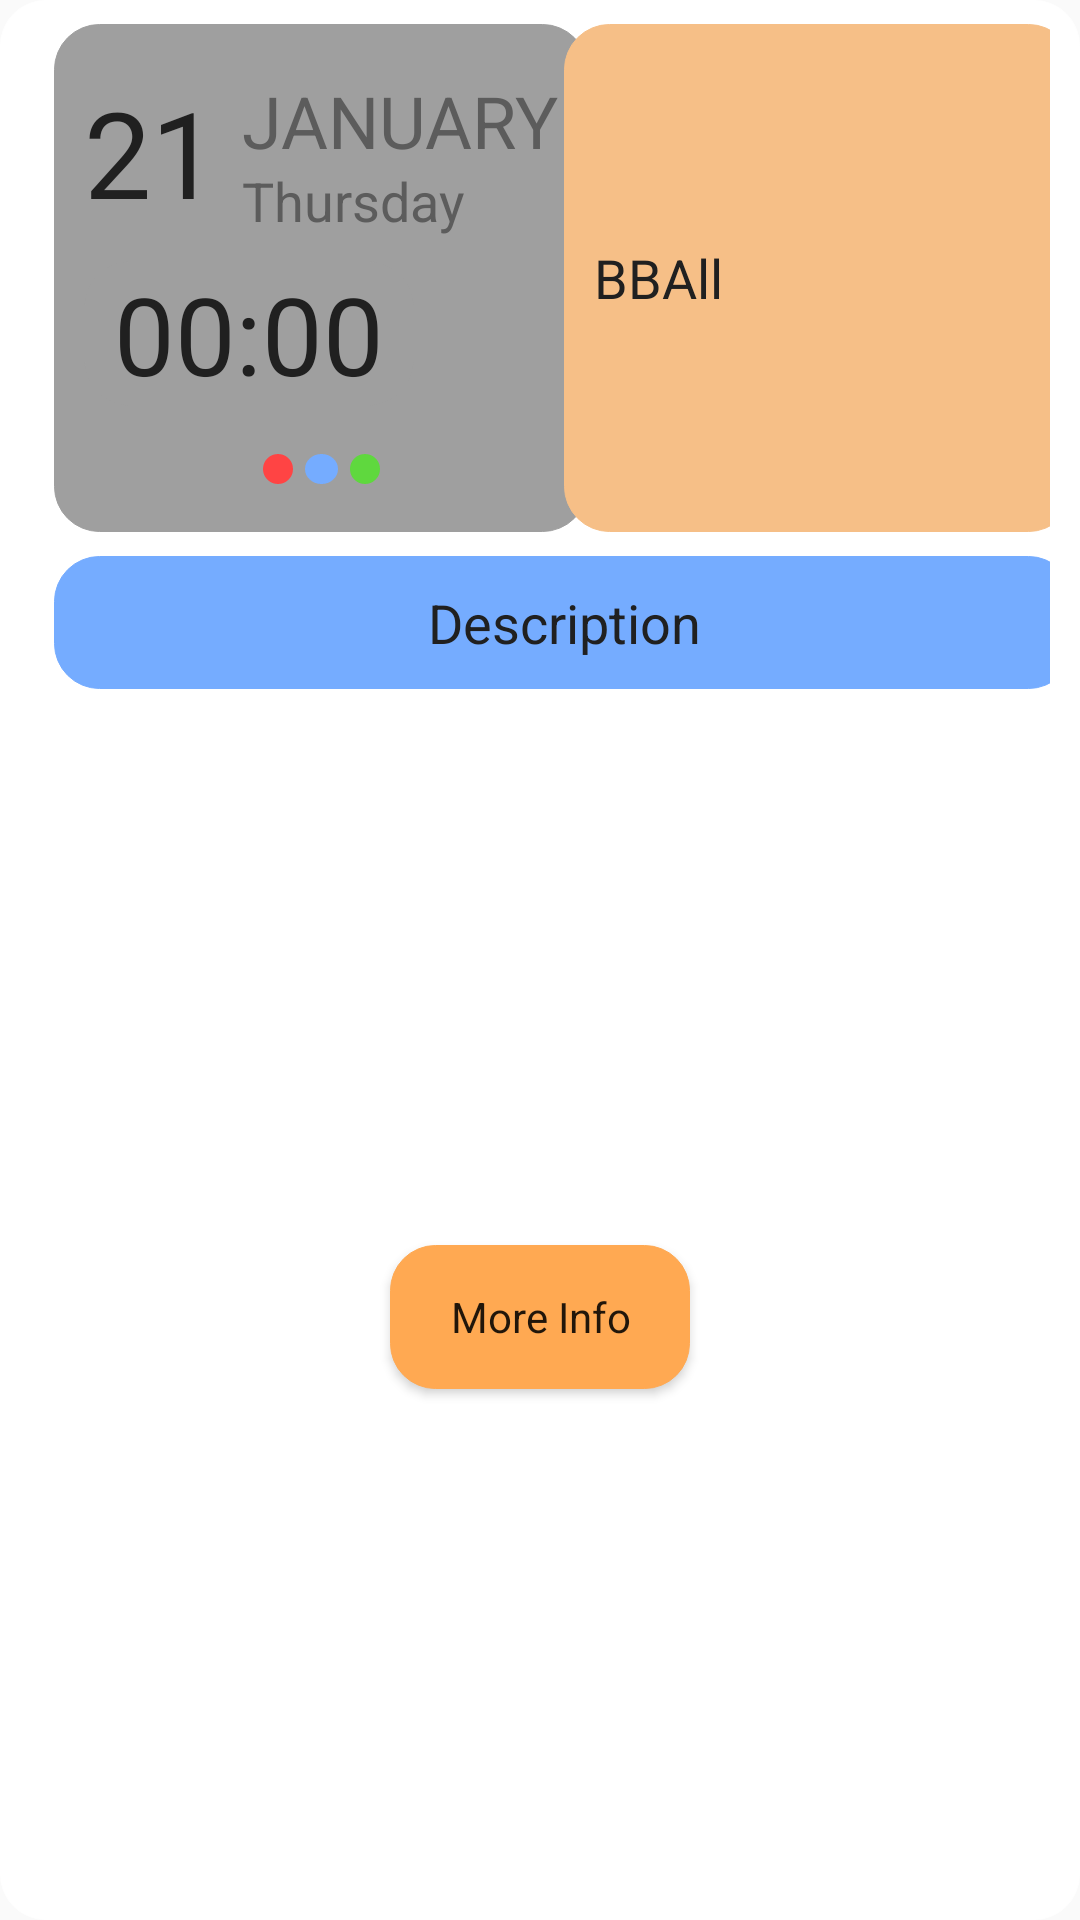

Icon click points for this 1080×1920 phone screenshot, format [x,y]:
dot: [278,469], [321,469], [365,469]
